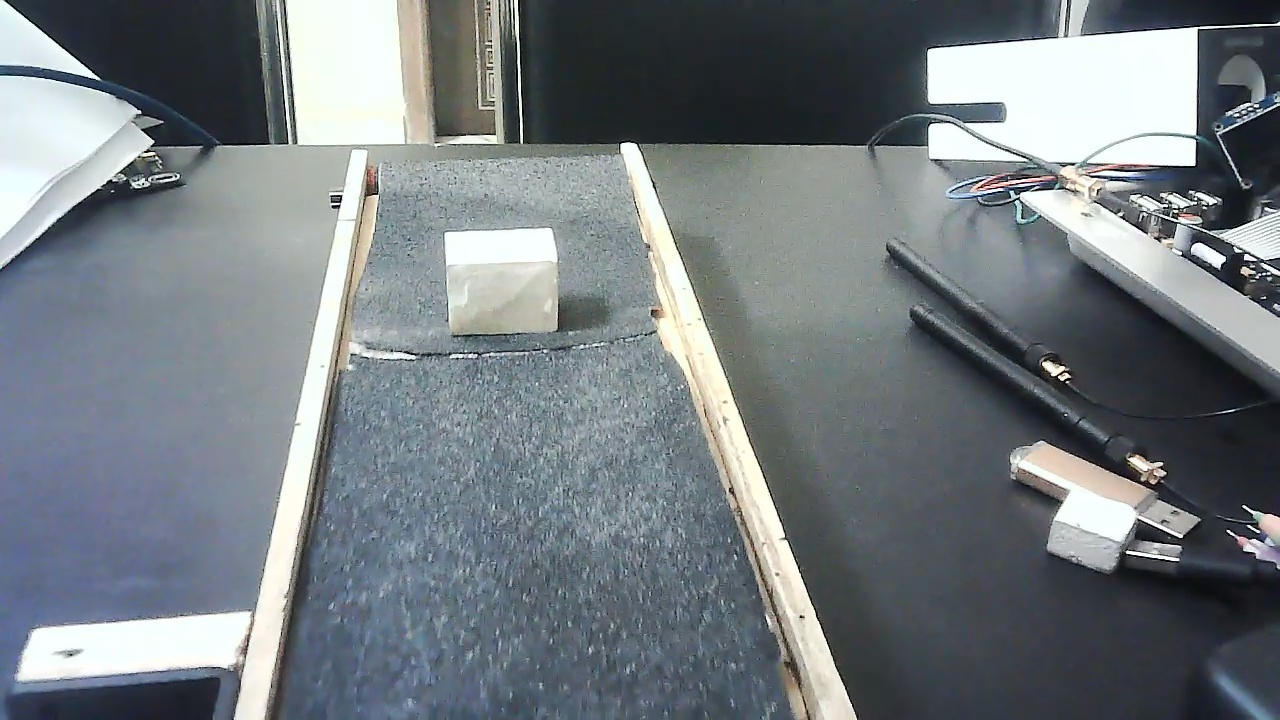Medium: (443, 224, 560, 341)
